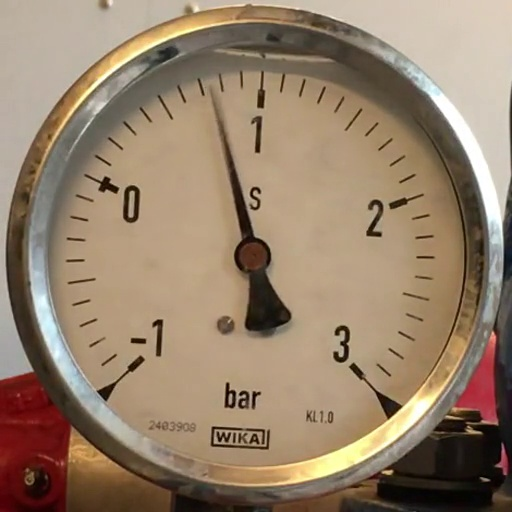base: (234, 237, 272, 273)
circle_plate: (49, 56, 466, 466)
maximum: (348, 362, 367, 381)
minimum: (128, 355, 145, 373)
number: (128, 318, 168, 360), (364, 196, 386, 240), (121, 182, 142, 226), (330, 322, 352, 364), (248, 112, 264, 156)
tip: (206, 84, 214, 91)
